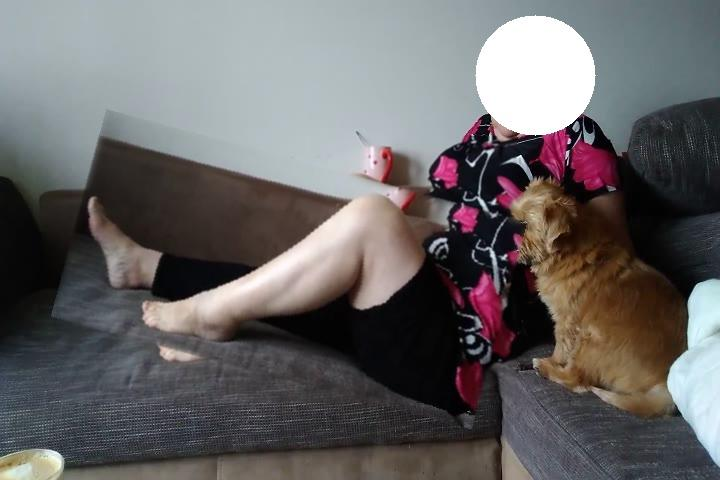lowerbody: (62, 137, 518, 404)
